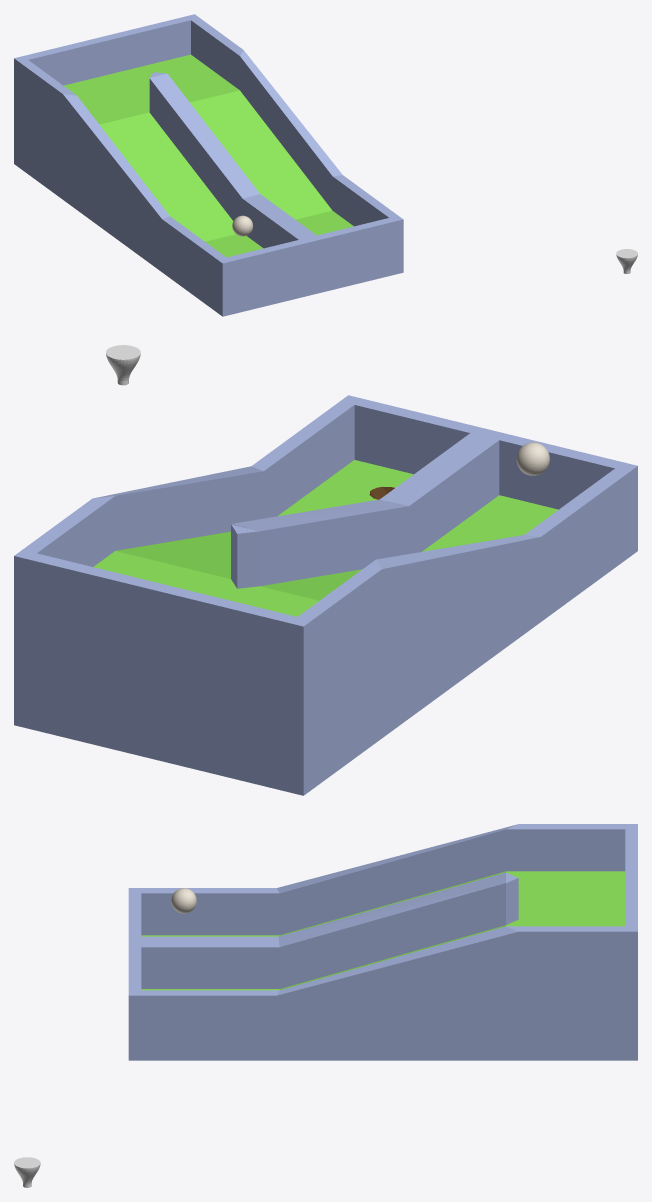
File: minigolf_course_test.glb
3 renders of one model, top to bottom at view 1: azimuth 30°, elevation 25°; view 2: azimuth 150°, elevation 25°; view 3: azimuth 270°, elevation 25°, orthographic. The views are drawn at different scales.
Parts seen in each view (by area): view 1: Course; view 2: Course, Hole, Ball; view 3: Course, Hole, Ball.
Part boxes in pixels (<box>): Course: <box>14,14,403,316</box>; Course: <box>14,395,637,795</box>; Hole: <box>106,345,140,385</box>; Ball: <box>516,442,549,475</box>; Course: <box>128,824,637,1060</box>; Hole: <box>14,1157,40,1187</box>; Ball: <box>171,888,196,913</box>.
Bounding box in the file's own units: 41.19 × 12.67 × 49.01.
